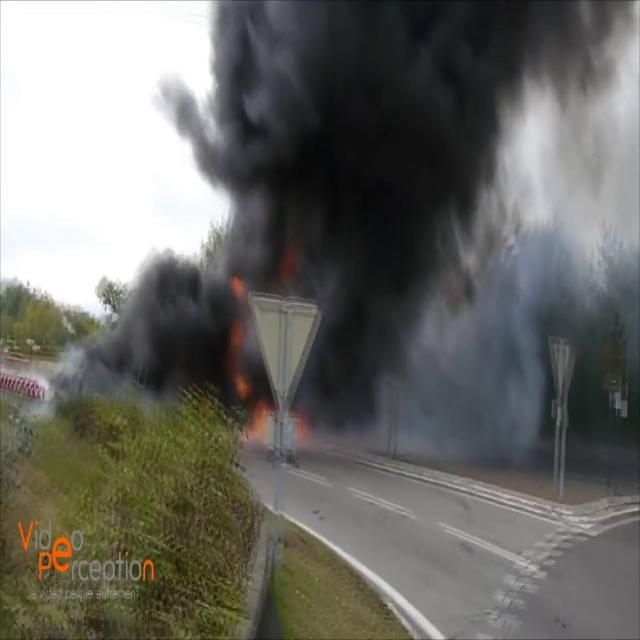Smoke: (165, 1, 640, 440), (69, 233, 241, 410)
